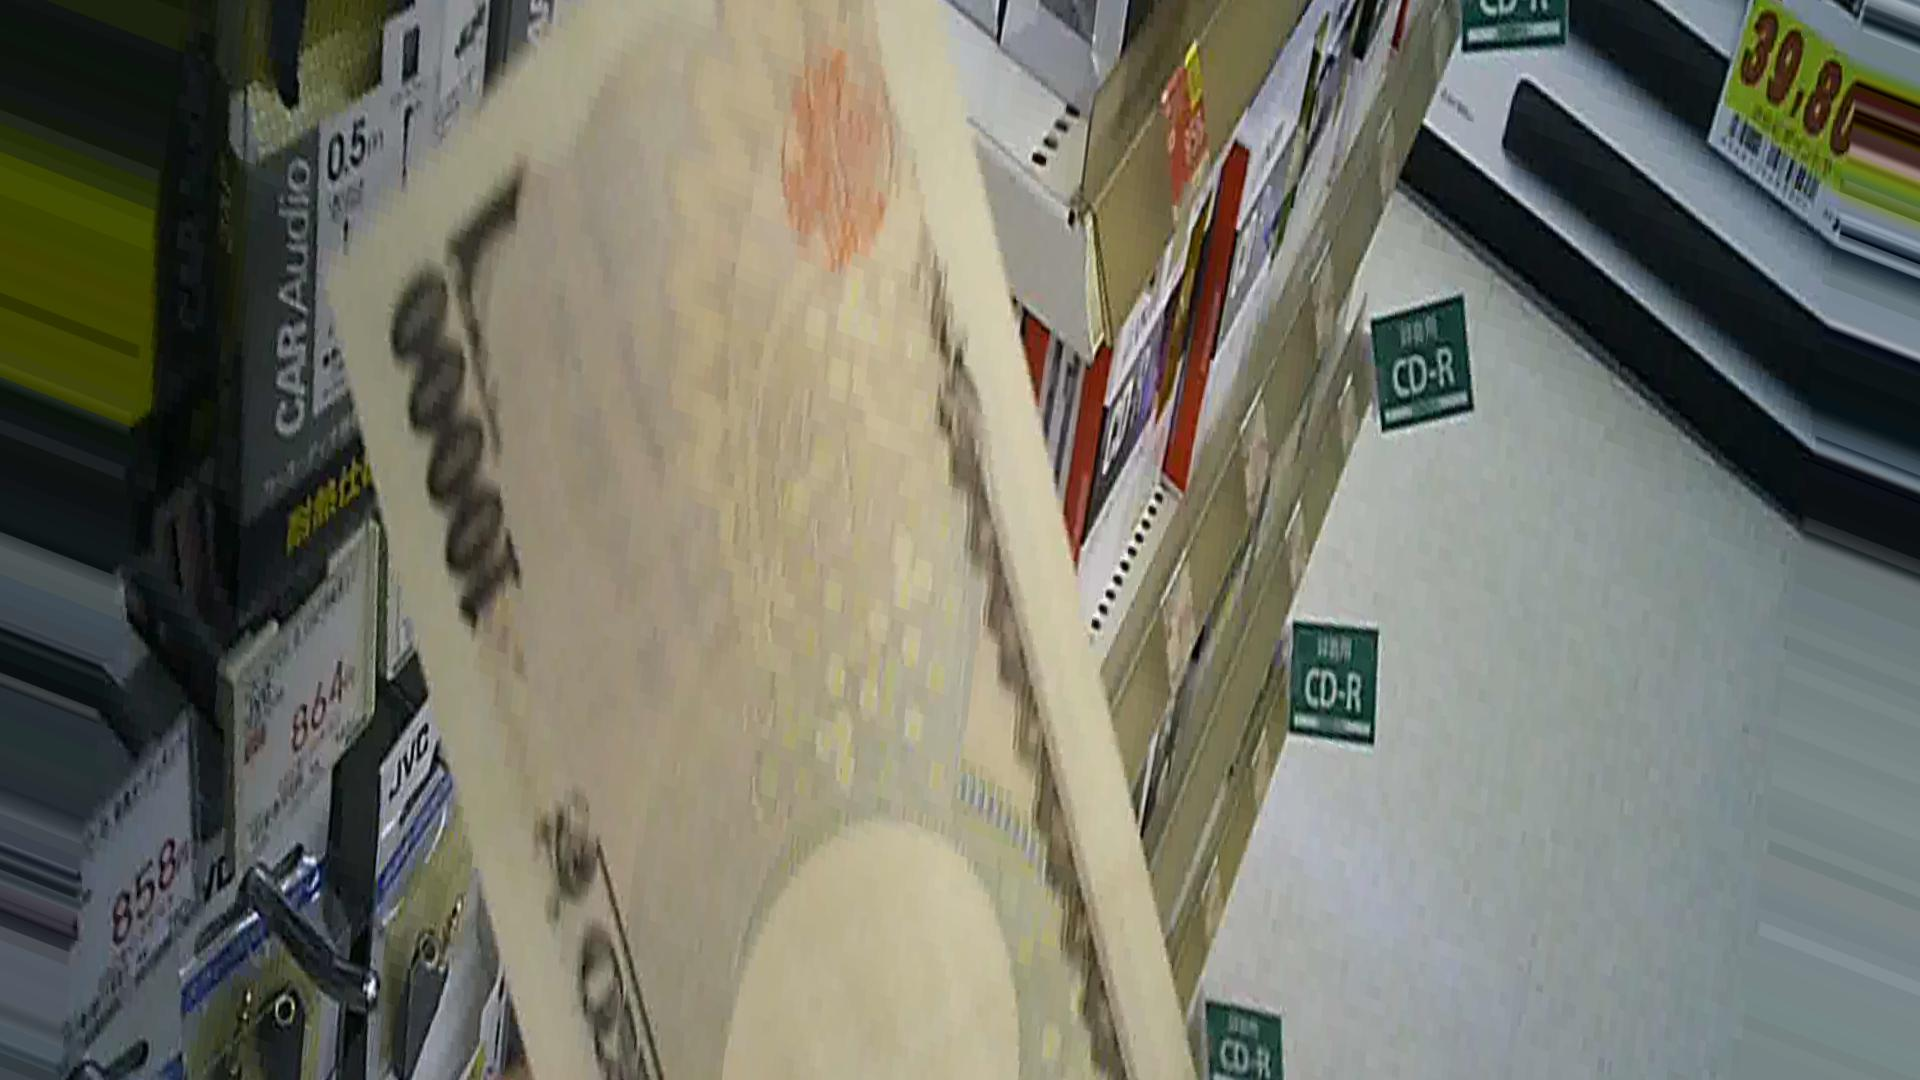10,000 Yen: (318, 61, 1104, 1079)
